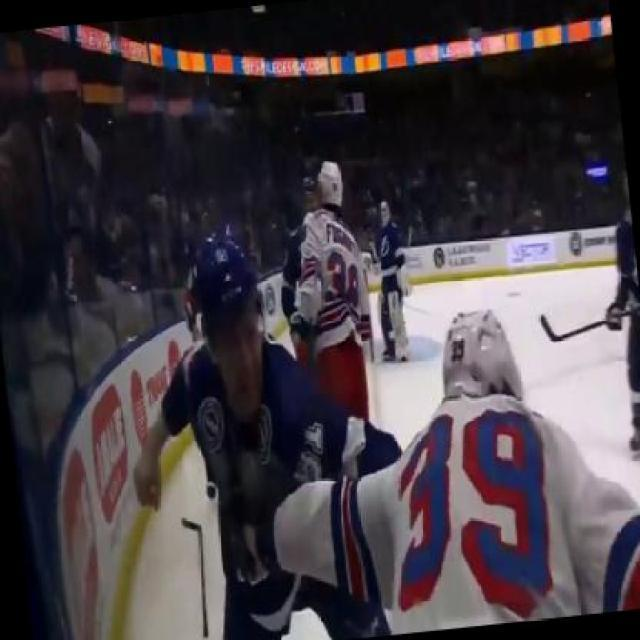fight: (204, 292, 638, 638), (103, 210, 451, 638)
non-fight: (591, 157, 640, 474), (359, 192, 419, 356)
